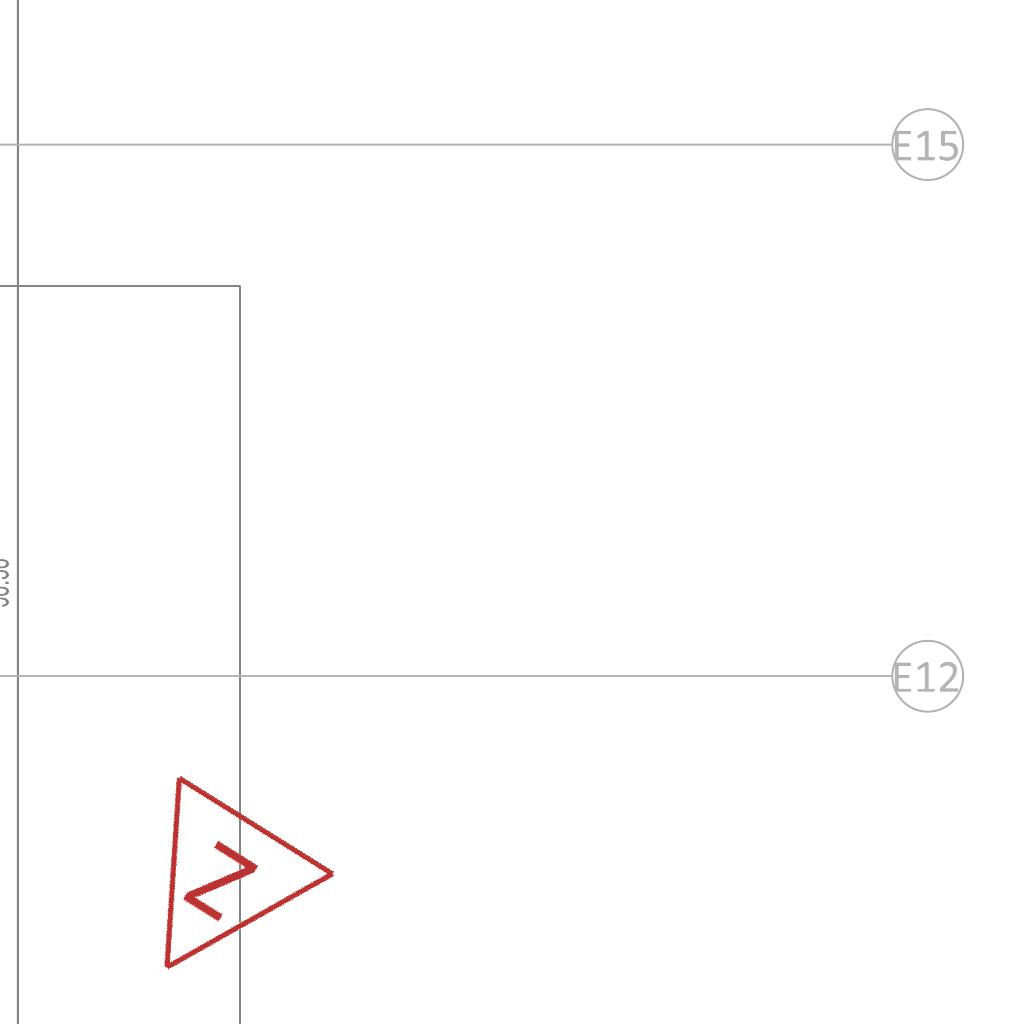Zimmersignalleuchte: (77, 760, 351, 1024)
